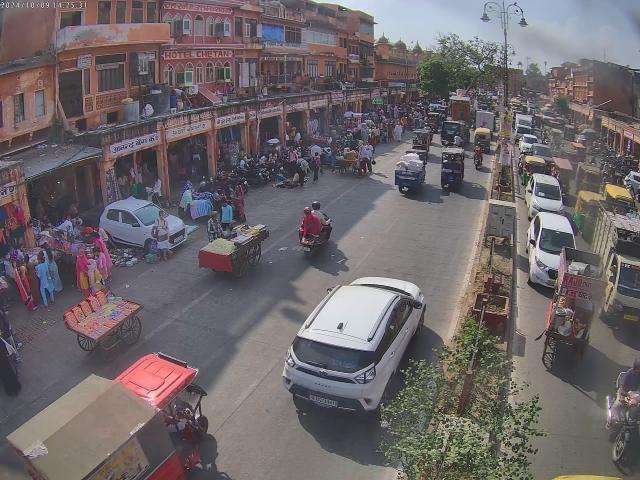auto: (10, 354, 212, 480), (438, 146, 466, 192), (602, 184, 639, 218), (410, 129, 432, 155), (473, 126, 493, 153)
car: (280, 278, 428, 420), (524, 212, 576, 290), (528, 173, 564, 214), (439, 118, 468, 146)
helmet: (309, 200, 322, 210)
license_plate: (310, 394, 338, 408)
lorry: (591, 204, 640, 324), (395, 150, 429, 192)
motorbike-rider: (605, 358, 640, 464), (296, 202, 334, 260), (472, 146, 484, 170)
person: (75, 250, 103, 296)
vendor: (540, 246, 610, 362), (66, 296, 144, 364), (198, 224, 266, 280)
